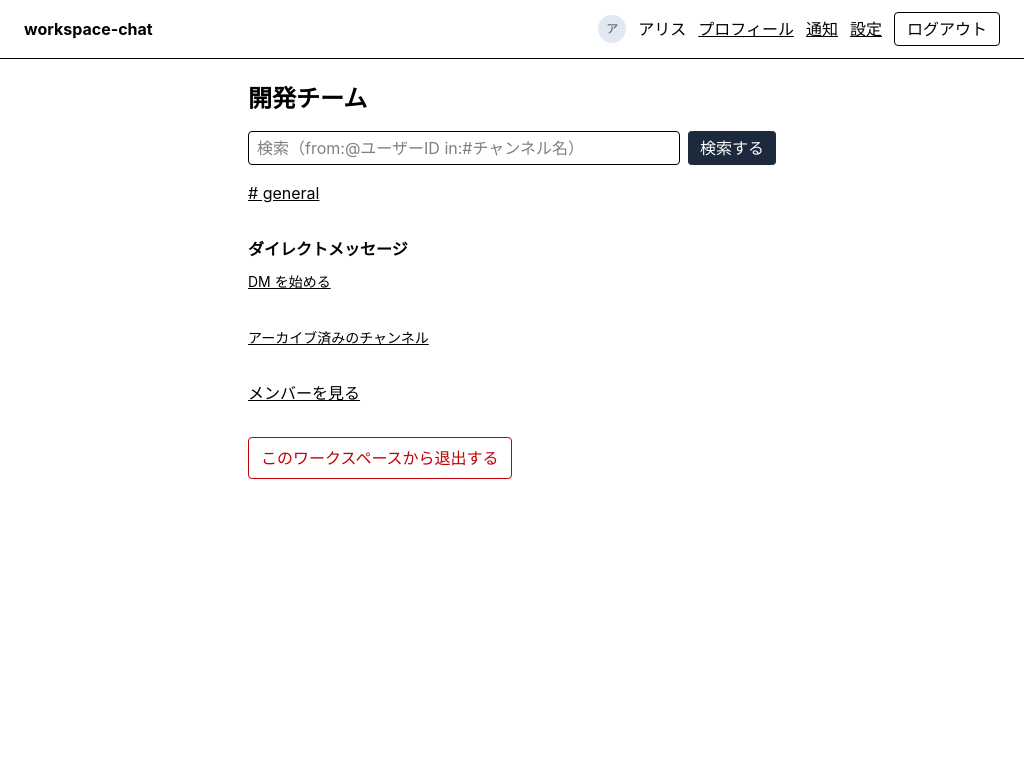
ワークスペースのメンバー（F-06・F-09） › メンバーの一覧を読めなければ、理由を出す
Click the button "メンバーを見る" at (304, 393), box [248,381,360,405]
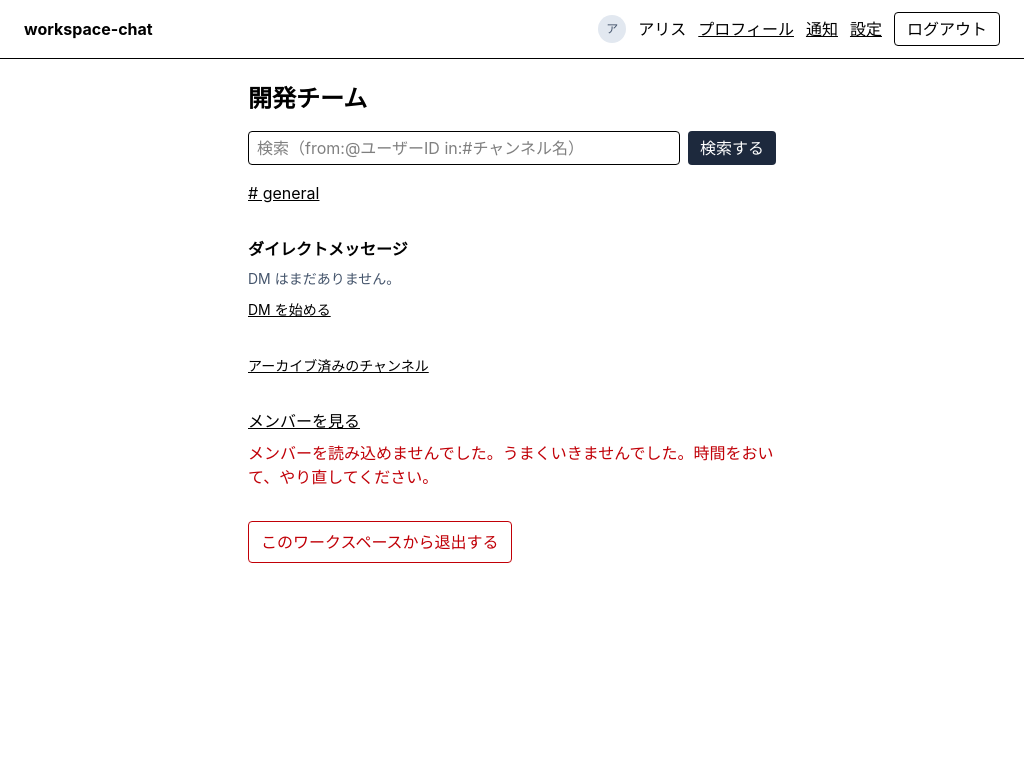
Check: the message shows "メンバーを読み込めませんでした", box [248,443,503,463]
